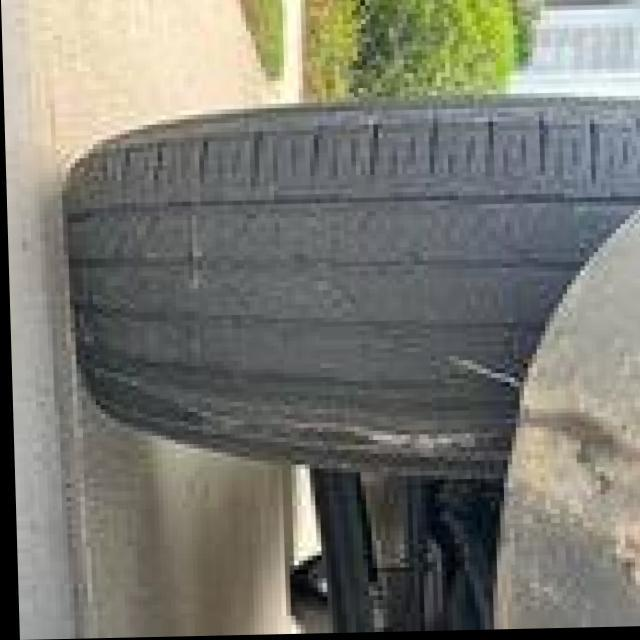Flat spots: (79, 202, 516, 380)
